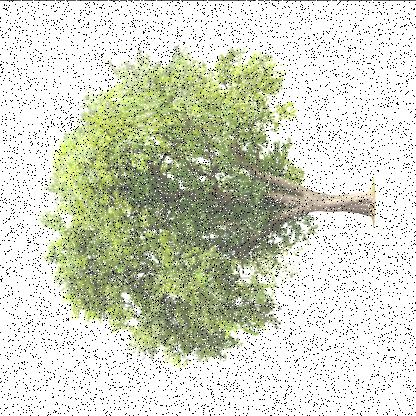Tree: (37, 43, 374, 366)
